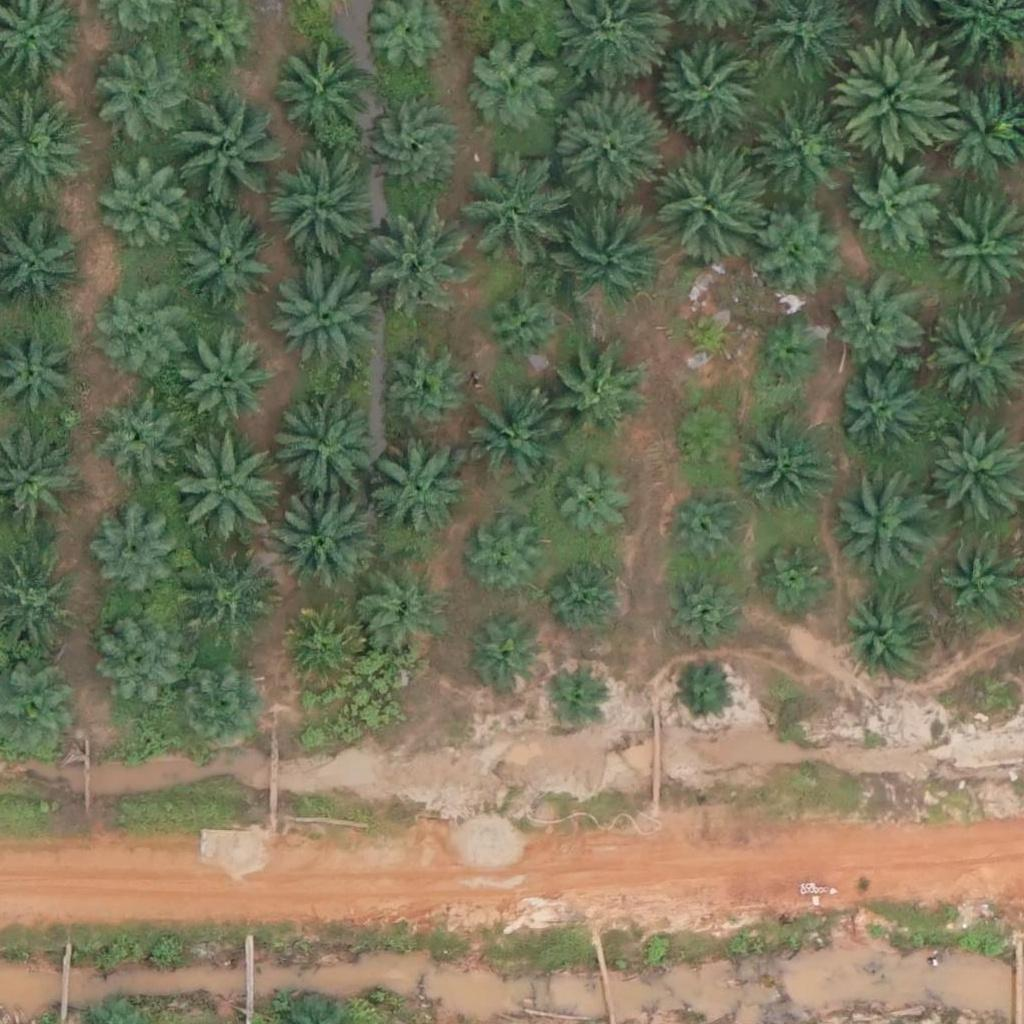Kelapa_Sawit: (837, 36, 962, 162), (263, 257, 376, 371), (652, 29, 765, 142), (549, 90, 662, 203), (268, 484, 381, 597), (260, 388, 373, 501), (549, 192, 661, 306), (266, 153, 378, 267), (168, 430, 280, 544), (650, 147, 762, 260), (360, 198, 472, 311), (164, 92, 276, 205), (923, 423, 1023, 524), (749, 95, 849, 196), (751, 196, 851, 297), (543, 344, 643, 445), (457, 393, 557, 494), (457, 165, 557, 266), (367, 441, 467, 542), (270, 41, 370, 142), (173, 209, 273, 310), (175, 546, 275, 647), (94, 46, 194, 147), (742, 410, 842, 511), (834, 475, 934, 575), (464, 31, 564, 131), (362, 99, 462, 199), (831, 283, 919, 371), (656, 566, 744, 654), (275, 604, 363, 692), (478, 282, 566, 370), (185, 342, 273, 430), (87, 510, 175, 598), (834, 370, 921, 459), (98, 617, 185, 706), (843, 590, 930, 678), (849, 163, 936, 251), (666, 485, 753, 573), (383, 351, 470, 439), (360, 571, 447, 659), (176, 663, 263, 751), (88, 388, 175, 476), (97, 276, 184, 364), (100, 161, 187, 249), (549, 468, 624, 544), (551, 556, 626, 632), (750, 316, 825, 392), (669, 403, 744, 479), (757, 538, 832, 613), (469, 523, 544, 598), (467, 623, 542, 698), (540, 664, 603, 727), (673, 660, 735, 723), (676, 304, 738, 367)
